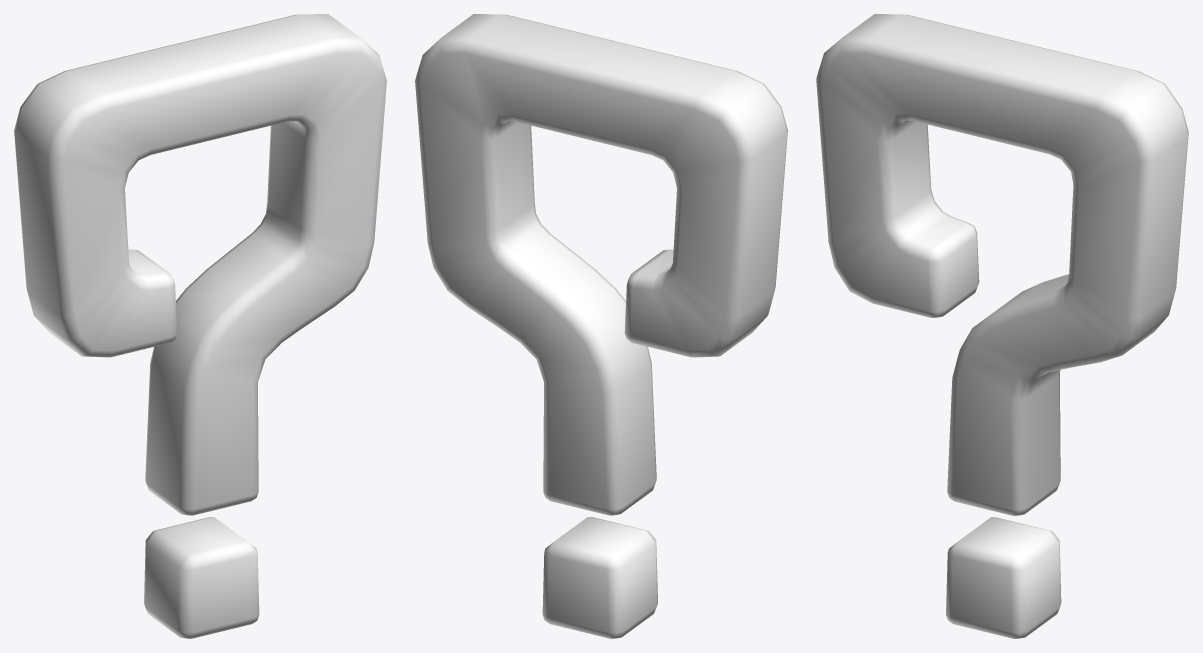
File: Help.obj
3 renders of one model, left to right at view 1: azimuth 30°, elevation 25°; view 2: azimuth 150°, elevation 25°; view 3: azimuth 330°, elevation 25°, orthographic.
Bounding box in the file's own units: 8.09 × 12.91 × 1.82.
Materials: 1 (1 with a texture image).
